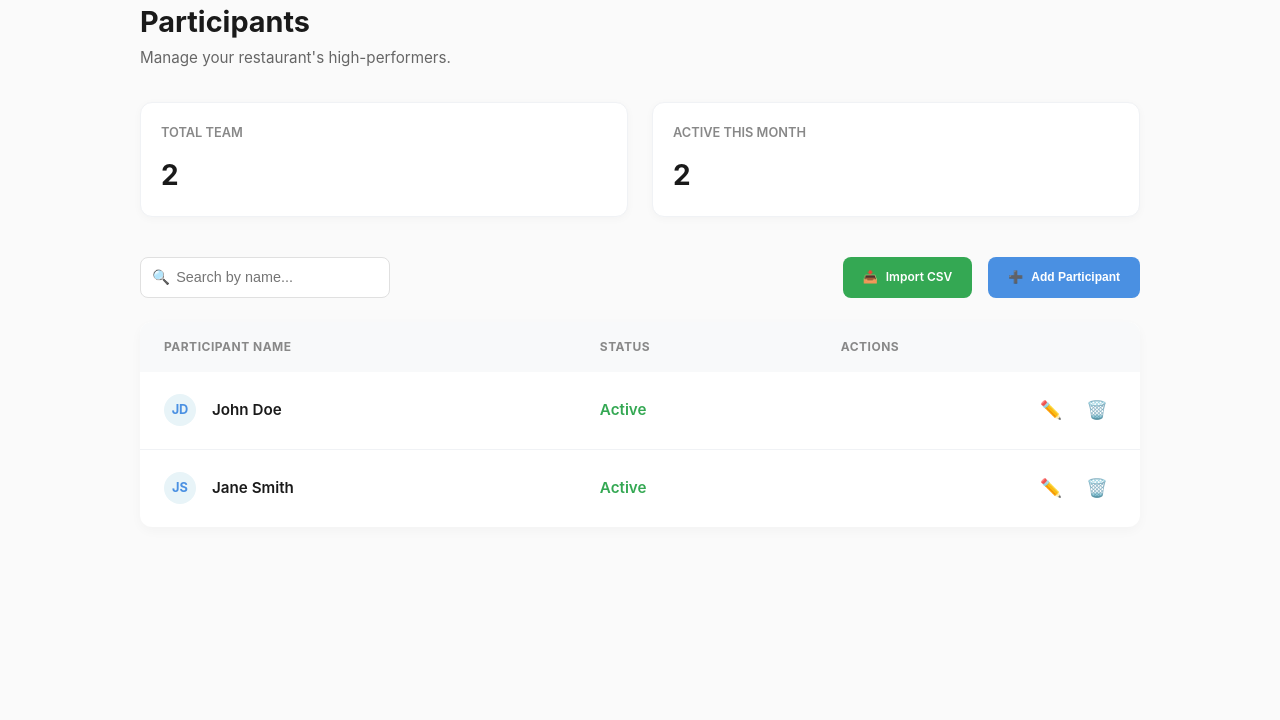
Test: Participants Integration Tests › should open edit modal with correct data
Step 1. Click the button titled "Edit Participant" in the row of "John" → {"x": 1051, "y": 410}, box 1032,392 -> 1070,428
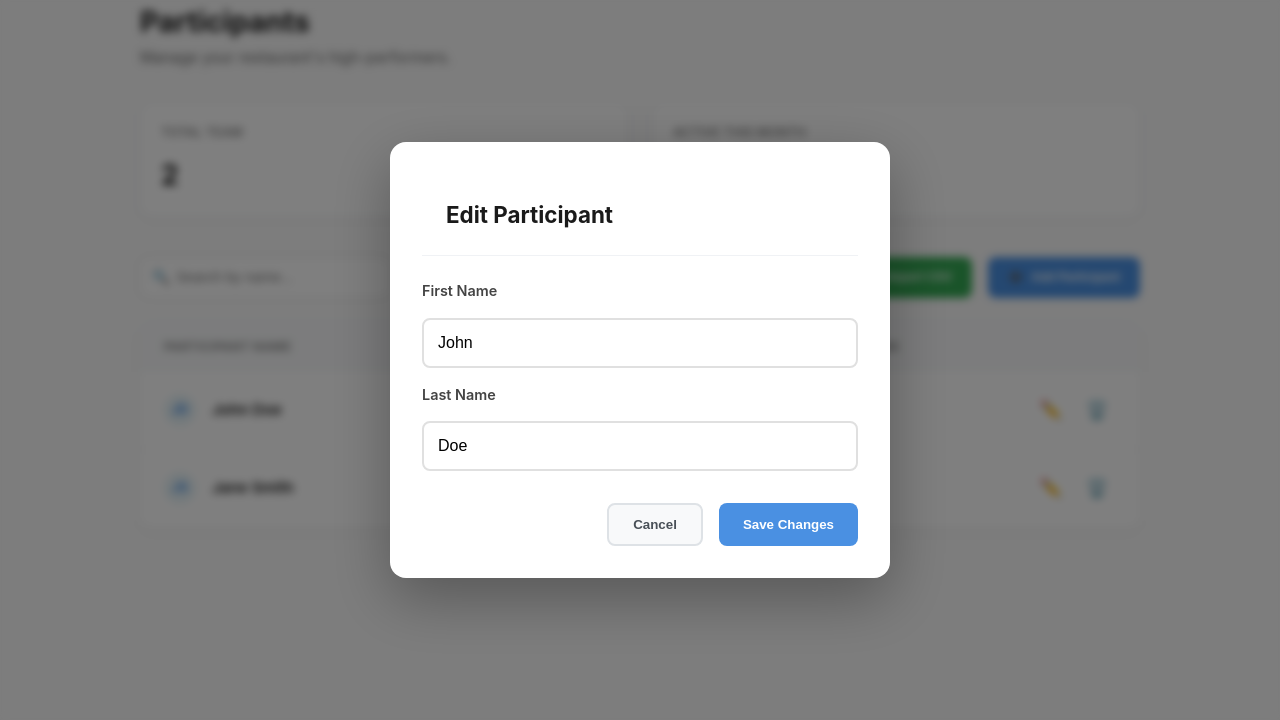
Expected: the field labelled "First Name" holds "John", 422,318 -> 858,368
Expected: the field labelled "Last Name" holds "Doe", 422,421 -> 858,471
